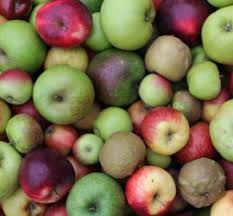apple: (27, 72, 96, 123), (141, 109, 193, 152)
damaged_apple: (88, 50, 143, 107), (16, 151, 74, 204), (98, 131, 150, 178), (36, 2, 94, 44), (180, 154, 226, 206), (140, 37, 194, 76), (4, 115, 49, 154)
